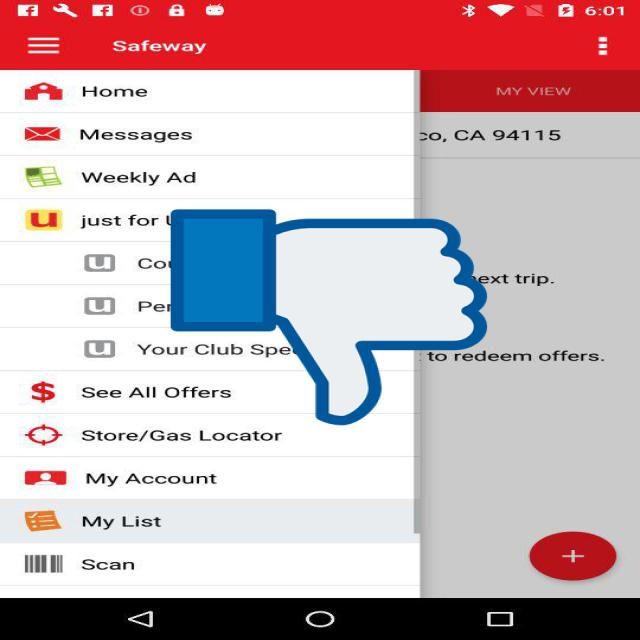obstruction: (171, 205, 487, 430)
